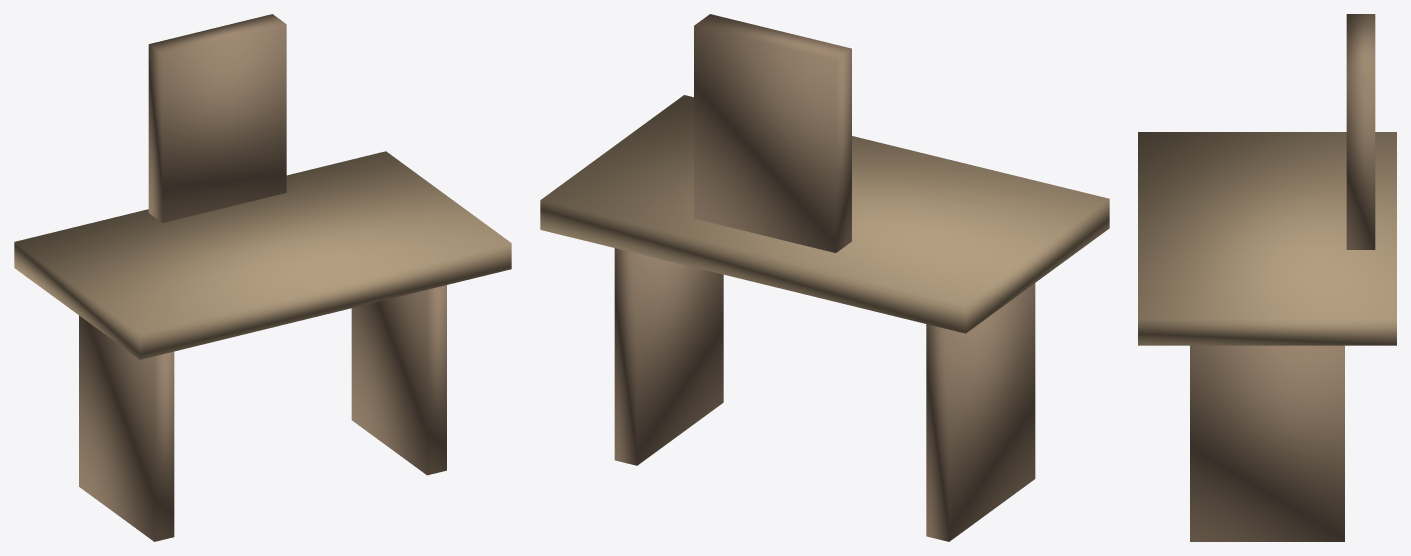
File: altar_table__deep.glb
The picture shows the model from 3 angles, left to right: view 1: azimuth 30°, elevation 25°; view 2: azimuth 150°, elevation 25°; view 3: azimuth 270°, elevation 25°; orthographic projection. The views are drawn at different scales.
Parts seen in each view (by area): view 1: world; view 2: world; view 3: world.
Part boxes in pixels (x1,y1,x2,y2): world: [14, 14, 511, 541]; world: [540, 14, 1109, 541]; world: [1138, 14, 1396, 541].
Size of the model in its own units: 1.5 by 1.59 by 0.8784.
